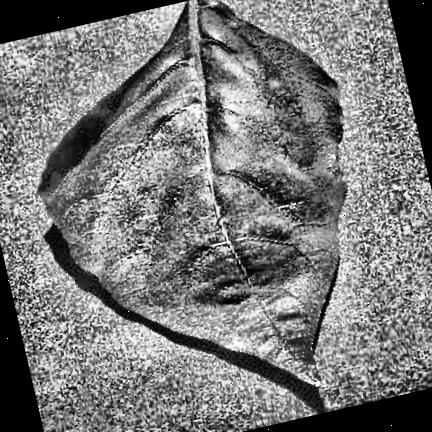leaf: (39, 0, 347, 384)
